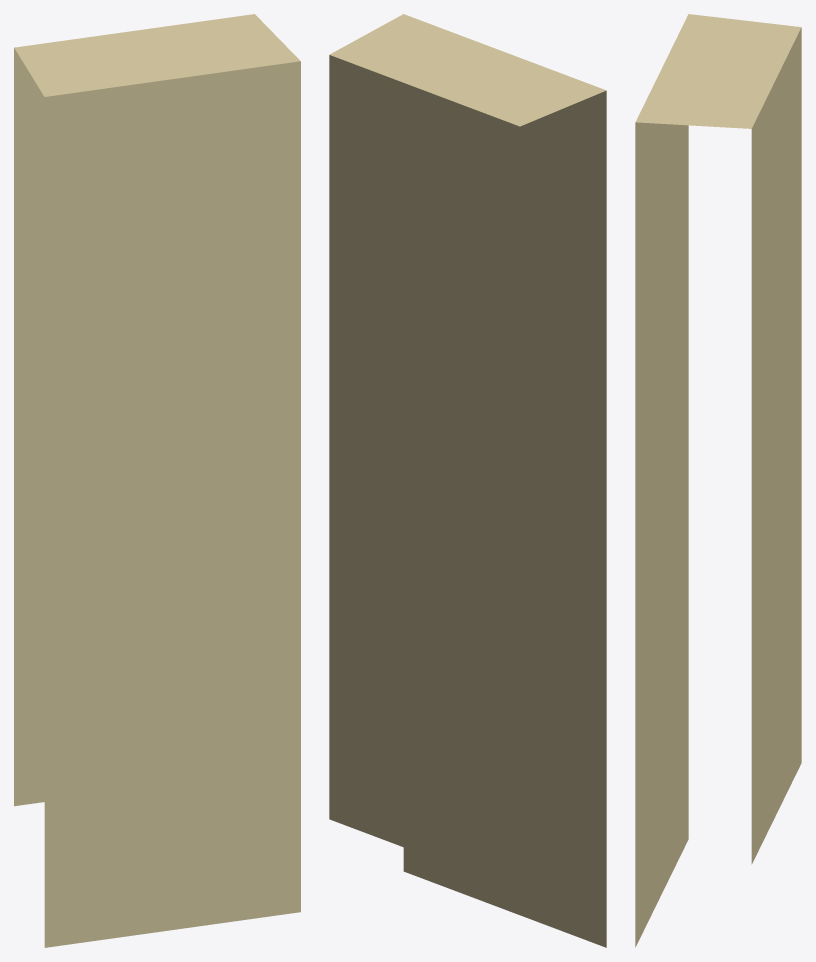
File: wall2.fbx
3 views of the same model, side by side, from view 1: azimuth 30°, elevation 25°; view 2: azimuth 150°, elevation 25°; view 3: azimuth 270°, elevation 25° (orthographic). The views are drawn at different scales.
Parts seen in each view (by area): view 1: duvar.035; view 2: duvar.035; view 3: duvar.035.
Part boxes in pixels (bbox=[...]): duvar.035: bbox=[14, 14, 300, 947]; duvar.035: bbox=[329, 14, 606, 947]; duvar.035: bbox=[635, 14, 801, 947].
Bounding box in the file's own units: 13.44 × 44.99 × 8.21.
